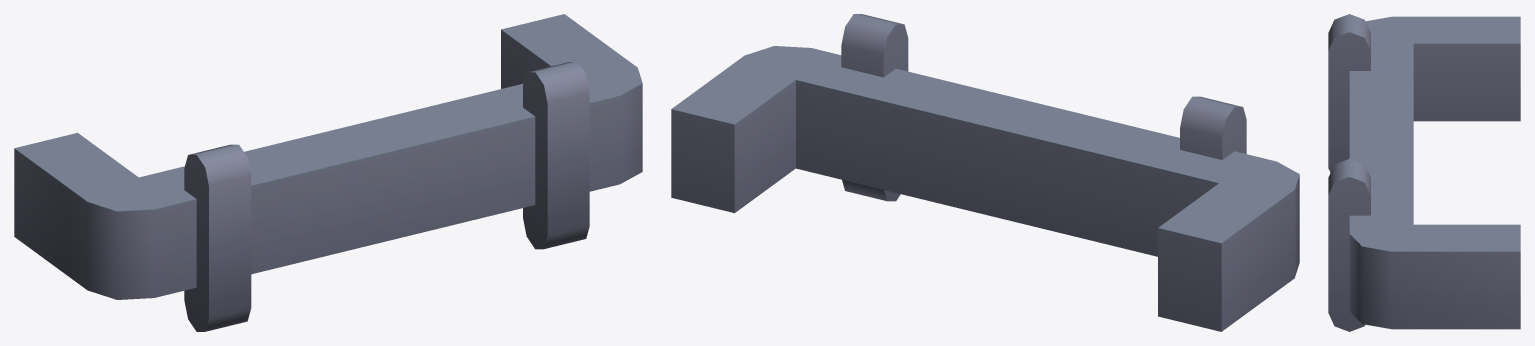
File: debris-bumper.glb
The picture shows the model from 3 angles, left to right: view 1: azimuth 30°, elevation 25°; view 2: azimuth 150°, elevation 25°; view 3: azimuth 270°, elevation 25°; orthographic projection. The views are drawn at different scales.
Parts seen in each view (by area): view 1: debris-bumper; view 2: debris-bumper; view 3: debris-bumper.
Part boxes in pixels (x1,y1,x2,y2): debris-bumper: (14, 14, 642, 331); debris-bumper: (671, 14, 1299, 331); debris-bumper: (1328, 14, 1520, 331).
Size of the model in its own units: 1.3 by 0.4 by 0.4499.
1 material, 1 textured.
